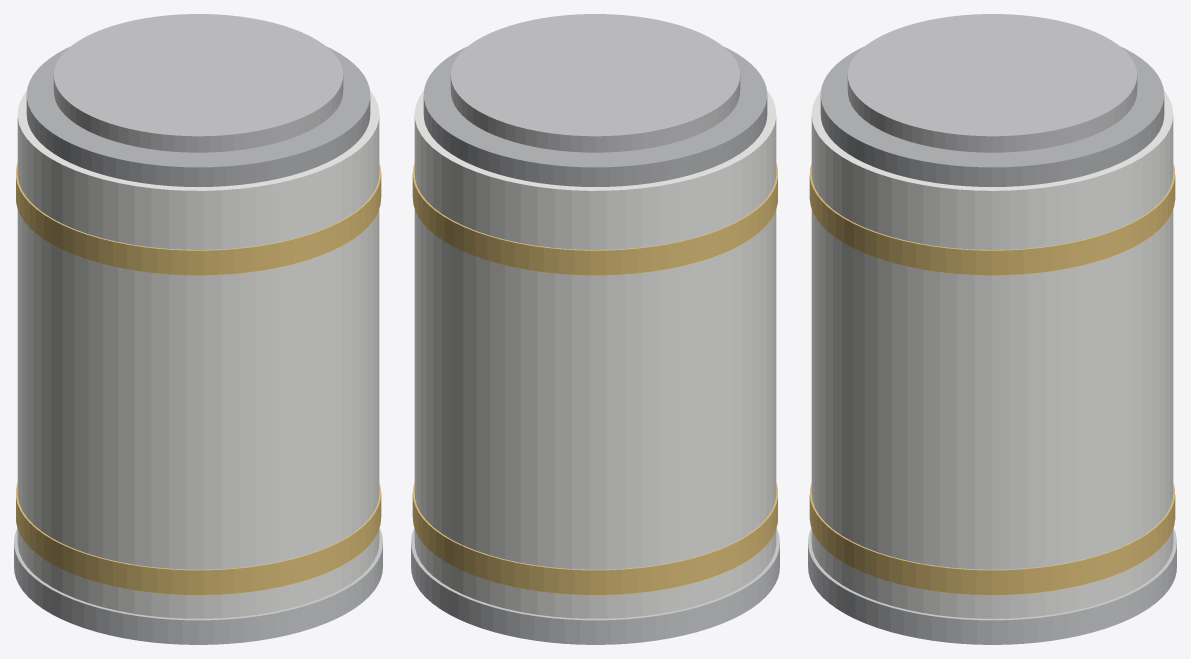
The model's file is robo03_deployable_boom_s.glb.
3 views of the same model, side by side, from view 1: azimuth 30°, elevation 25°; view 2: azimuth 150°, elevation 25°; view 3: azimuth 270°, elevation 25° (orthographic).
Parts seen in each view (by area): view 1: canister, boom_tip, canister_bands, boom_lid, base; view 2: canister, boom_tip, canister_bands, boom_lid, base; view 3: canister, boom_tip, canister_bands, boom_lid, base.
Part boxes in pixels (<box>): canister: <box>17,90,379,618</box>; boom_tip: <box>53,14,343,152</box>; canister_bands: <box>16,163,381,594</box>; boom_lid: <box>26,46,370,186</box>; base: <box>14,528,382,644</box>; canister: <box>414,90,776,618</box>; boom_tip: <box>450,14,740,152</box>; canister_bands: <box>412,163,777,594</box>; boom_lid: <box>423,46,767,186</box>; base: <box>411,528,779,644</box>; canister: <box>811,91,1173,618</box>; boom_tip: <box>847,14,1137,152</box>; canister_bands: <box>809,163,1175,594</box>; boom_lid: <box>820,46,1164,186</box>; base: <box>808,528,1176,644</box>.
Bounding box in the file's own units: 1.02 × 1.5 × 1.02.
